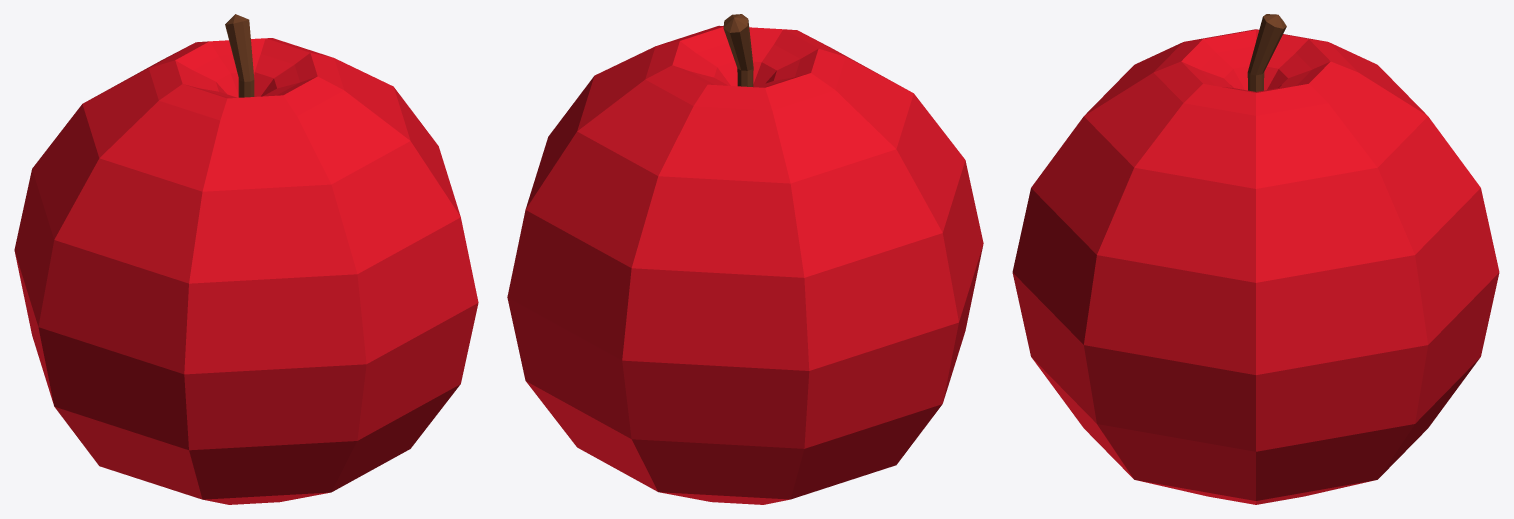
File: GamesE_E03_manzana.fbx
3 renders of one model, left to right at view 1: azimuth 30°, elevation 25°; view 2: azimuth 150°, elevation 25°; view 3: azimuth 270°, elevation 25°, orthographic. The views are drawn at different scales.
Parts seen in each view (by area): view 1: Icosphere; view 2: Icosphere; view 3: Icosphere.
Boxes of the visible parts, x1,y1,x2,y2 form: Icosphere: (14, 14, 478, 504); Icosphere: (507, 14, 983, 504); Icosphere: (1012, 14, 1499, 504).
Size of the model in its own units: 361 by 377 by 361.
